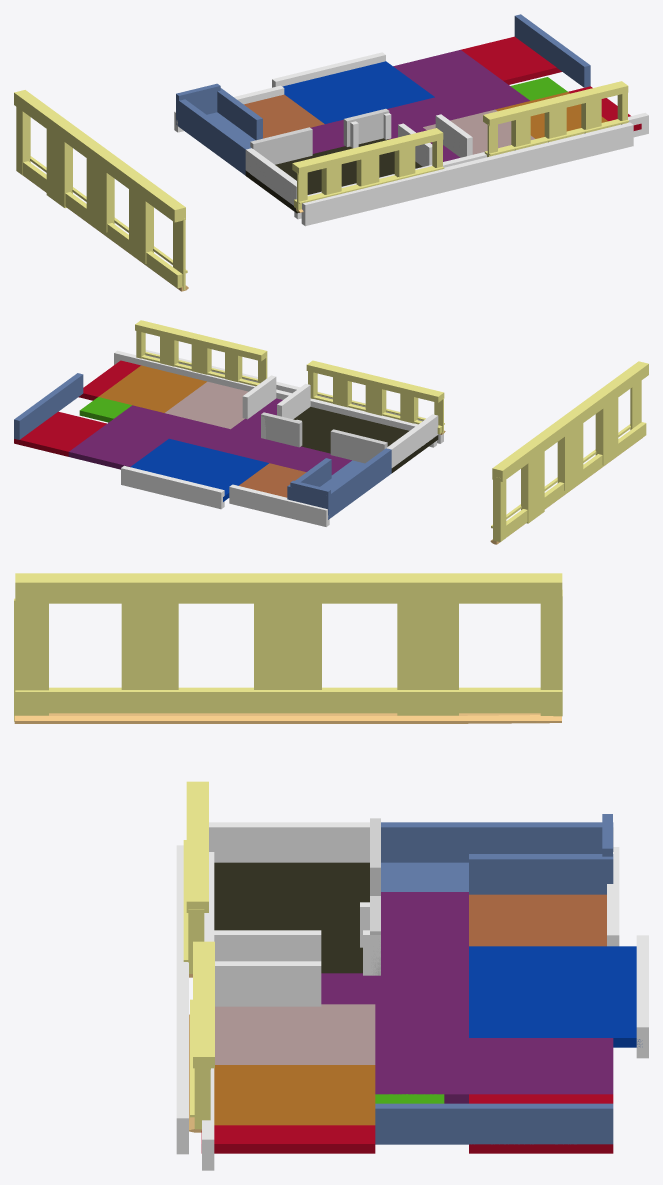
Rendered from skolni101.gltf.
The picture shows the model from 3 angles, top to bottom: view 1: azimuth 30°, elevation 25°; view 2: azimuth 150°, elevation 25°; view 3: azimuth 270°, elevation 25°; orthographic projection. The views are drawn at different scales.
Parts seen in each view (by area): view 1: PodPoadlahou.002, PodPoadlahou.009, T6, PodPoadlahou.011, PodPoadlahou.010, Hala, PodPoadlahou.013, Sklad, PodPoadlahou.014, Šatna, PodPoadlahou.001, Krychle.001 (+15 smaller); view 2: PodPoadlahou.002, Hala, PodPoadlahou.011, PodPoadlahou.010, T6, T1, Šatna, PodPoadlahou.013, T2, PodPoadlahou.008, Sklad, PodPoadlahou.004 (+17 smaller); view 3: PodPoadlahou.002, Hala, T6, Šatna, PodPoadlahou.014, T1, T2, PodPoadlahou.013, PodPoadlahou.001, PodPoadlahou.003, PodPoadlahou.012, Krychle.007 (+12 smaller).
Boxes of the visible parts, x1,y1,x2,y2 form: PodPoadlahou.002: (14,90,188,291); PodPoadlahou.009: (301,122,633,226); T6: (282,61,434,123); PodPoadlahou.011: (292,128,444,212); PodPoadlahou.010: (483,81,629,157); Hala: (310,81,529,161); PodPoadlahou.013: (393,50,502,97); Sklad: (461,36,561,84); PodPoadlahou.014: (514,14,590,87); Šatna: (245,138,422,213); PodPoadlahou.001: (179,99,251,170); Krychle.001: (250,127,312,164); PodPoadlahou.002: (490,361,648,544); Hala: (108,398,351,474); PodPoadlahou.011: (306,360,445,434); PodPoadlahou.010: (135,320,267,386); T6: (130,438,268,501); T1: (98,365,206,412); Šatna: (293,406,438,473); PodPoadlahou.013: (68,423,168,469); T2: (165,381,248,429); PodPoadlahou.008: (114,350,436,447); Sklad: (14,411,106,456); PodPoadlahou.004: (121,465,224,509); PodPoadlahou.002: (14,573,562,723); Hala: (321,892,468,1103); T6: (469,946,639,1047); Šatna: (214,862,369,973); PodPoadlahou.014: (375,1103,613,1144); T1: (214,1065,375,1125); T2: (215,1004,375,1064); PodPoadlahou.013: (469,1038,613,1094); PodPoadlahou.001: (381,822,613,862); PodPoadlahou.003: (209,822,369,862); PodPoadlahou.012: (469,854,613,894); Krychle.007: (215,961,321,1006).
Size of the model in its own units: 844 by 144 by 515.
